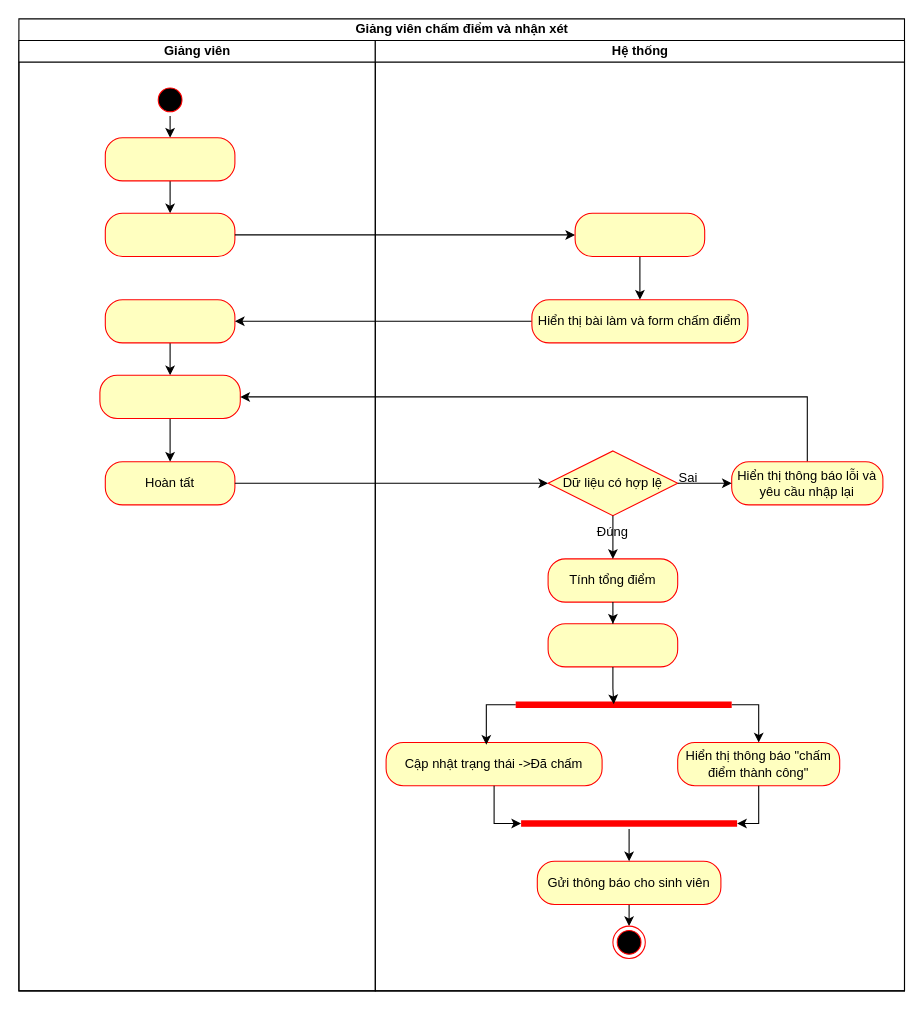
Some shapes in this 923 by 1010 pixel diagram are drawn without their labels. The centre of each missing label's shape, as x and y in pixels:
"Chọn bài của nhóm" goes at point (169, 234).
"Lưu kết quả" goes at point (612, 645).
"Lấy thông tin bài nộp" goes at point (639, 234).
"Nhập điểm và nhận xét" goes at point (169, 396).
"Truy cập danh sách bài nộp" goes at point (169, 159).
"Xem nội dung bài làm" goes at point (169, 321).
